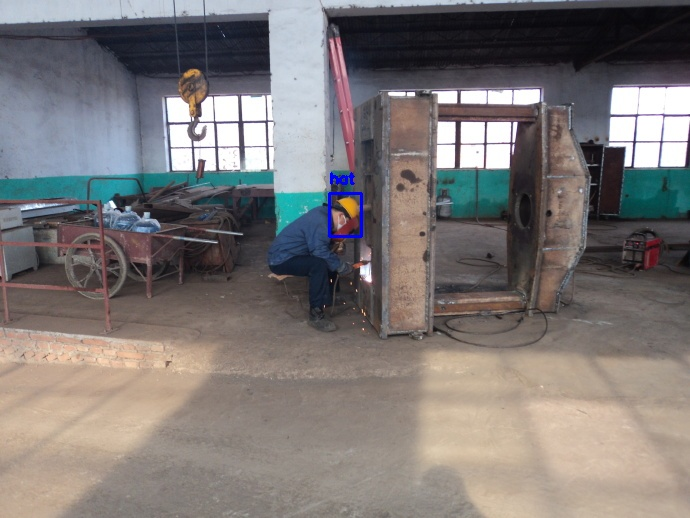hat: (329, 193, 362, 236)
